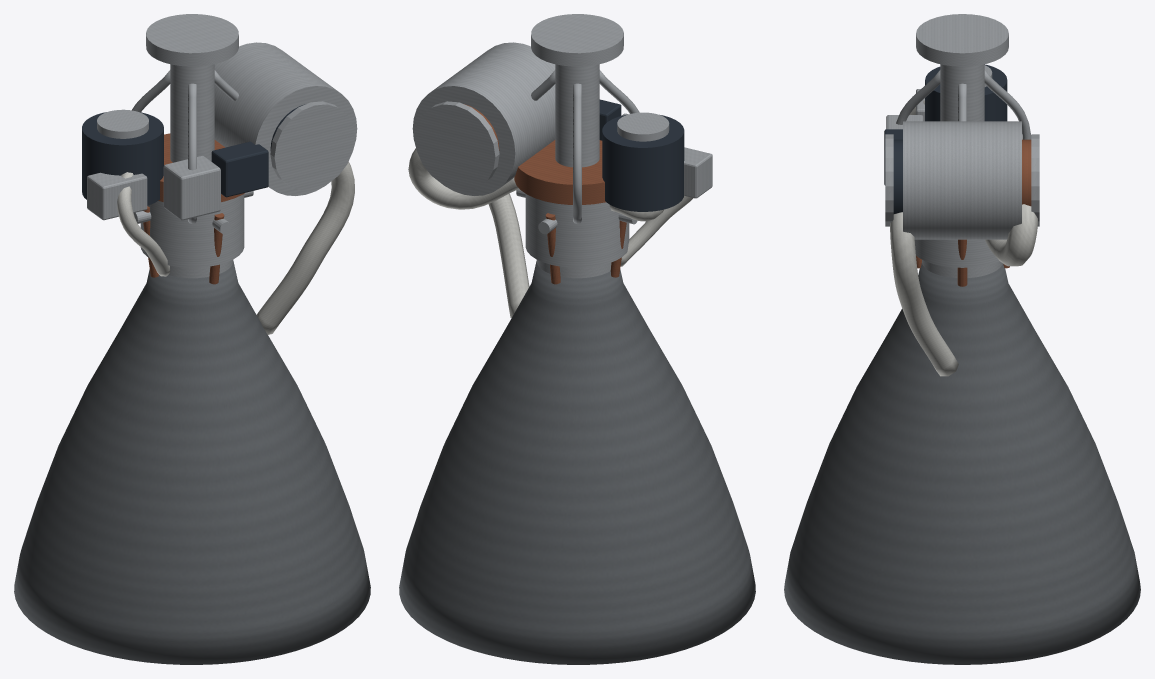
3 renders of one model, left to right at view 1: azimuth 30°, elevation 25°; view 2: azimuth 150°, elevation 25°; view 3: azimuth 270°, elevation 25°, orthographic.
Parts seen in each view (by area): view 1: BE4_Nozzle, Turbopump_Housing, Pump_Flange, Main_Chamber, Methane_Duct, Preburner, Gimbal_Flange, Gimbal_Stem.016, Control_Assembly, Main_ValveController, Preburner_ControlValve, Return_Line (+3 smaller); view 2: BE4_Nozzle, Turbopump_Housing, Preburner, Pump_Flange.001, Main_Chamber, Gimbal_Flange, Gimbal_Stem.016, Injector_Manifold, Methane_Duct, Oxygen_Duct, Preburner_Cap, Preburner_ControlValve (+3 smaller); view 3: BE4_Nozzle, Turbopump_Housing, Gimbal_Flange, Methane_Duct, Gimbal_Stem.016, Main_Chamber, Oxygen_Duct, Preburner, Pump_Flange, Powerhead_Support.001, Pump_Flange.001, Turbine_End (+3 smaller).
Boxes of the visible parts, left/top/right/bottom form: BE4_Nozzle: left=14, top=261, right=370, bottom=664; Turbopump_Housing: left=214, top=42, right=357, bottom=195; Pump_Flange: left=270, top=101, right=354, bottom=190; Main_Chamber: left=140, top=194, right=244, bottom=267; Methane_Duct: left=256, top=161, right=354, bottom=334; Preburner: left=82, top=112, right=163, bottom=205; Gimbal_Flange: left=146, top=14, right=238, bottom=66; Gimbal_Stem.016: left=170, top=64, right=214, bottom=162; Control_Assembly: left=163, top=155, right=220, bottom=220; Main_ValveController: left=211, top=141, right=268, bottom=197; Preburner_ControlValve: left=87, top=172, right=147, bottom=220; Return_Line: left=117, top=172, right=170, bottom=276; BE4_Nozzle: left=399, top=261, right=755, bottom=664; Turbopump_Housing: left=412, top=42, right=555, bottom=195; Preburner: left=602, top=114, right=684, bottom=211; Pump_Flange.001: left=415, top=101, right=499, bottom=190; Main_Chamber: left=525, top=194, right=629, bottom=267; Gimbal_Flange: left=531, top=14, right=623, bottom=66; Gimbal_Stem.016: left=555, top=64, right=599, bottom=167; Injector_Manifold: left=514, top=140, right=605, bottom=204; Methane_Duct: left=488, top=193, right=529, bottom=317; Oxygen_Duct: left=408, top=148, right=519, bottom=209; Preburner_Cap: left=617, top=112, right=669, bottom=141; Preburner_ControlValve: left=684, top=147, right=712, bottom=198; BE4_Nozzle: left=784, top=263, right=1140, bottom=664; Turbopump_Housing: left=903, top=121, right=1021, bottom=239; Gimbal_Flange: left=916, top=14, right=1008, bottom=66; Methane_Duct: left=890, top=212, right=958, bottom=376; Gimbal_Stem.016: left=940, top=64, right=984, bottom=121; Main_Chamber: left=914, top=239, right=999, bottom=267; Oxygen_Duct: left=985, top=204, right=1037, bottom=266; Preburner: left=925, top=64, right=1007, bottom=121; Pump_Flange: left=885, top=134, right=893, bottom=226; Powerhead_Support.001: left=984, top=70, right=1031, bottom=139; Pump_Flange.001: left=1031, top=134, right=1039, bottom=226; Turbine_End: left=893, top=139, right=902, bottom=213.
Size of the model in its own units: 1.92 by 3.3 by 1.92.
Materials: 5 (4 with a texture image).
